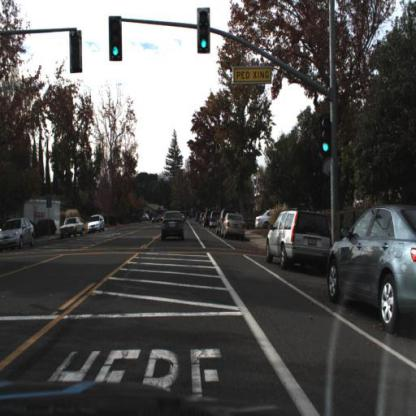car: (328, 205, 416, 337), (265, 208, 334, 267), (1, 218, 38, 254), (160, 209, 187, 245), (221, 214, 247, 241), (254, 207, 280, 232), (59, 217, 88, 239), (88, 214, 106, 236), (151, 211, 162, 227)
trafficLight-Green: (108, 12, 124, 64), (197, 6, 211, 55), (320, 114, 332, 159)
